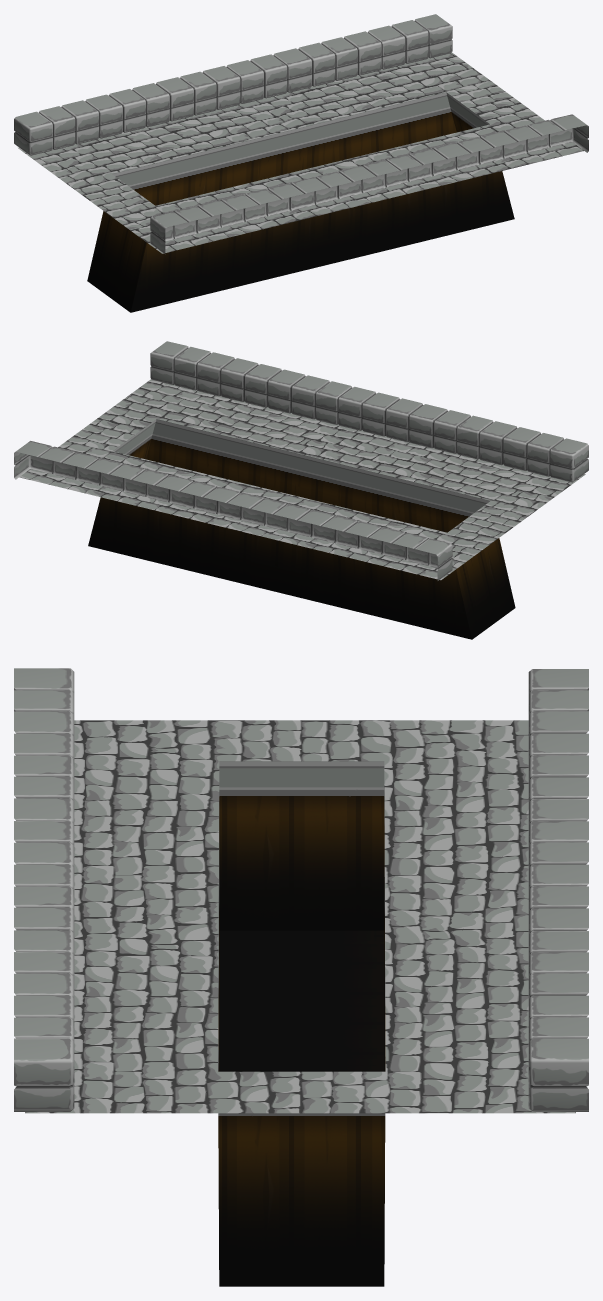
The model's file is mod_med_her_part_a_06.fbx.
3 renders of one model, top to bottom at view 1: azimuth 30°, elevation 25°; view 2: azimuth 150°, elevation 25°; view 3: azimuth 270°, elevation 25°, orthographic. The views are drawn at different scales.
Parts seen in each view (by area): view 1: mod_med_her_part_a_06; view 2: mod_med_her_part_a_06; view 3: mod_med_her_part_a_06.
Boxes of the visible parts, x1,y1,x2,y2 form: mod_med_her_part_a_06: (14,14,588,312); mod_med_her_part_a_06: (14,341,588,639); mod_med_her_part_a_06: (14,668,588,1286).
Bounding box in the file's own units: 180 × 52.5 × 111.
